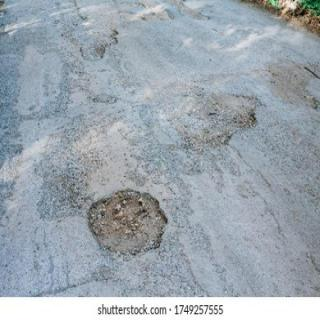pothole: (87, 190, 168, 258), (207, 94, 260, 148), (80, 31, 118, 62)
